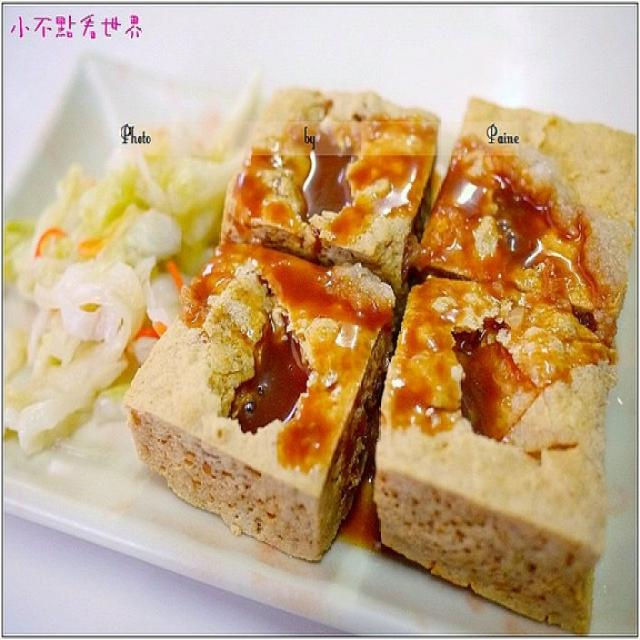豆腐料理: (6, 41, 631, 634)
